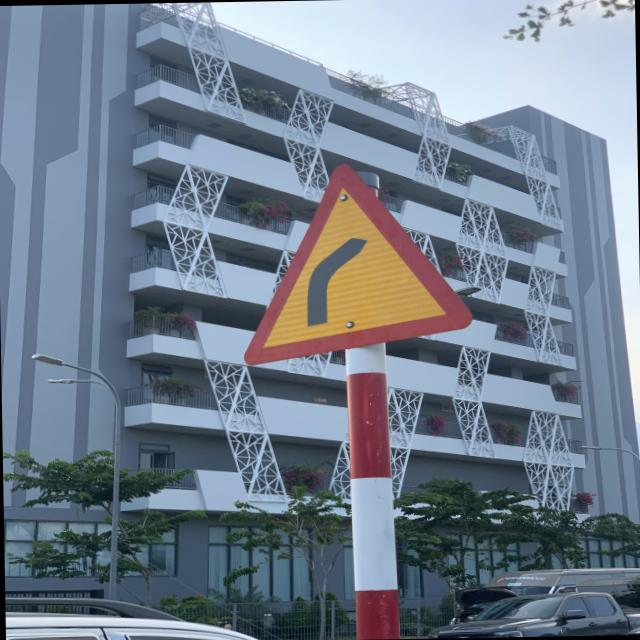Duong_Nguoi_Di_Bo_Cat_Ngang: (235, 160, 472, 368)
